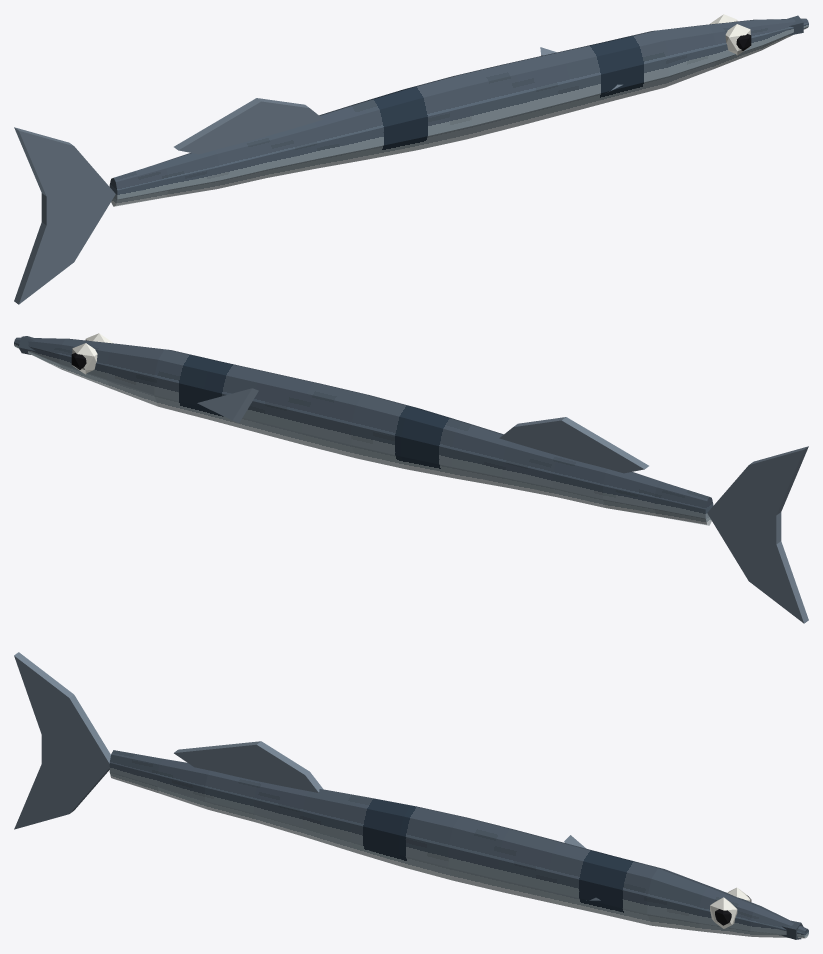
The model's file is great_barracuda.glb.
3 views of the same model, one above another, from view 1: azimuth 30°, elevation 25°; view 2: azimuth 150°, elevation 25°; view 3: azimuth 330°, elevation 25° (orthographic).
Parts seen in each view (by area): view 1: fish_great_barracuda; view 2: fish_great_barracuda; view 3: fish_great_barracuda.
Part boxes in pixels (x1,y1,x2,y2): fish_great_barracuda: (14, 14, 808, 304); fish_great_barracuda: (14, 333, 808, 623); fish_great_barracuda: (14, 652, 808, 939).
Size of the model in its own units: 1.14 by 0.24 by 0.0896.
Materials: 5 (1 with a texture image).
